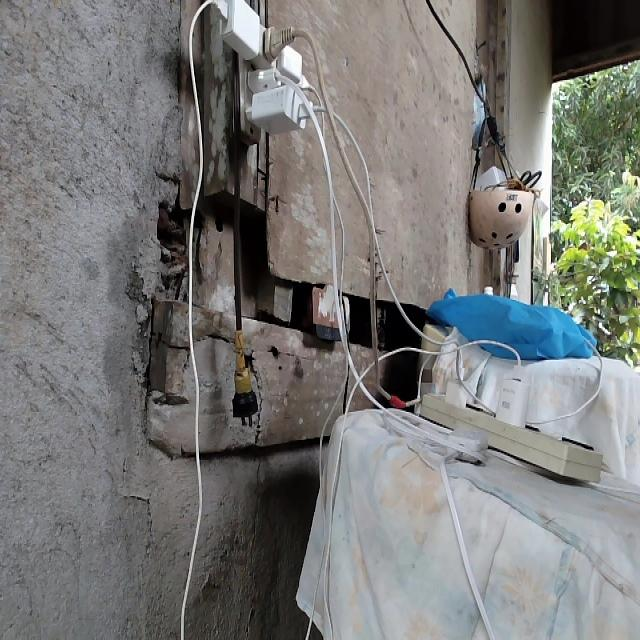-: (197, 0, 342, 144)
